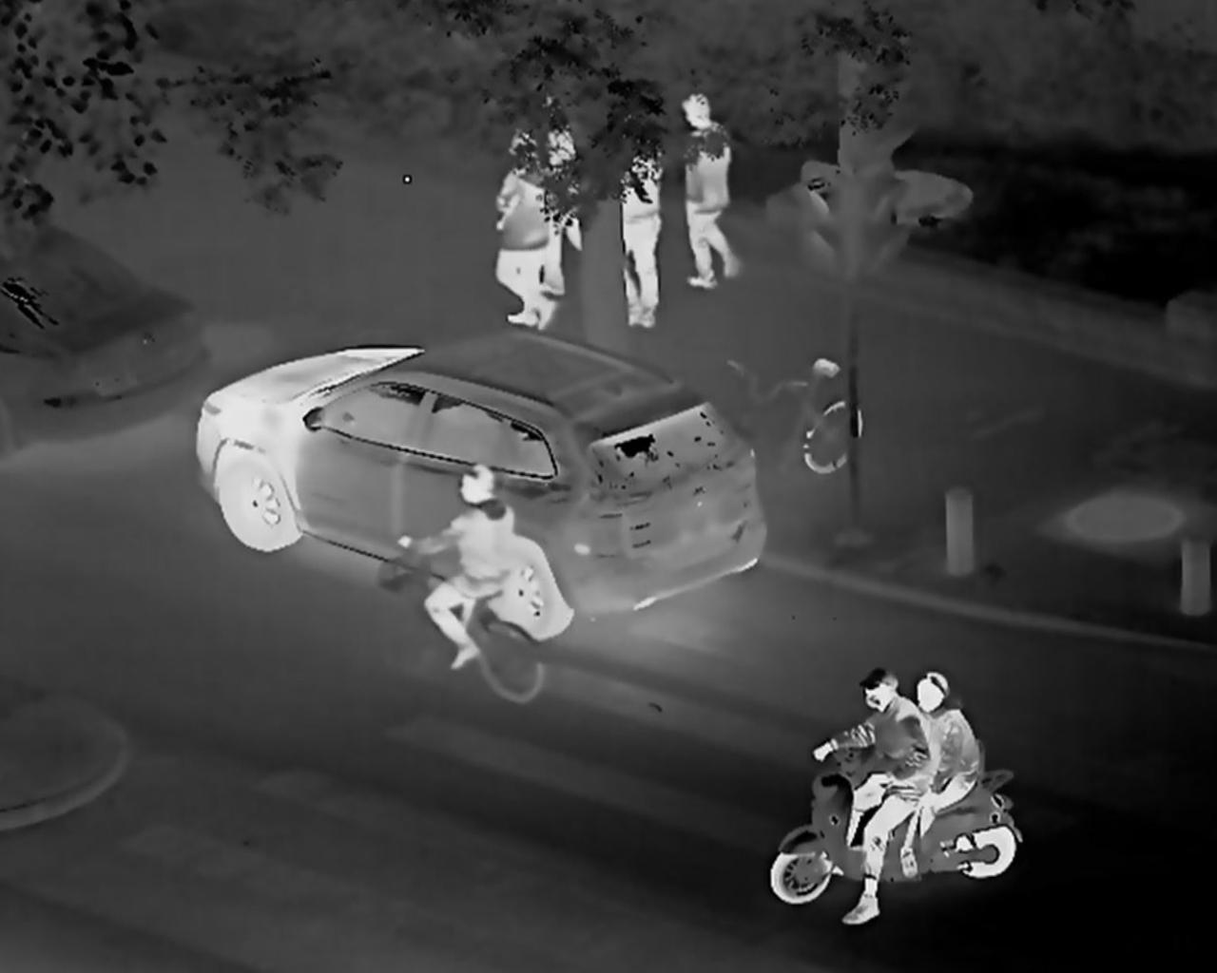person: (806, 671, 932, 937), (400, 462, 512, 695), (891, 677, 983, 884), (540, 84, 609, 305), (670, 95, 744, 295), (498, 147, 565, 337), (604, 116, 663, 330)
